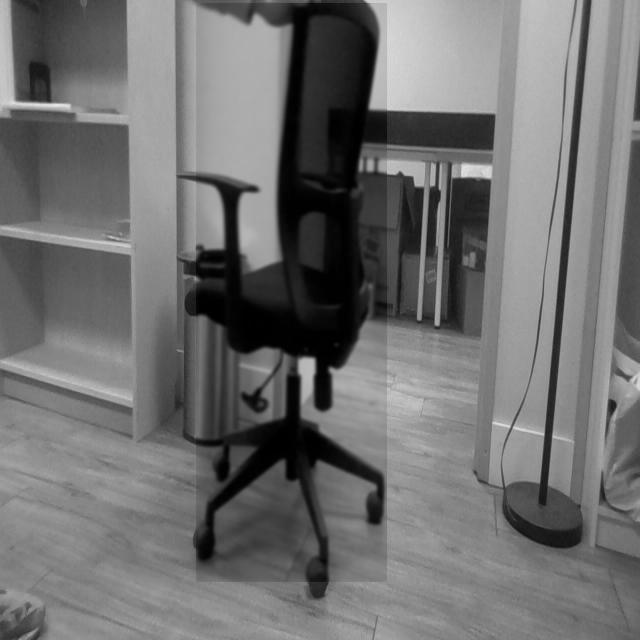chair: (178, 0, 390, 585)
